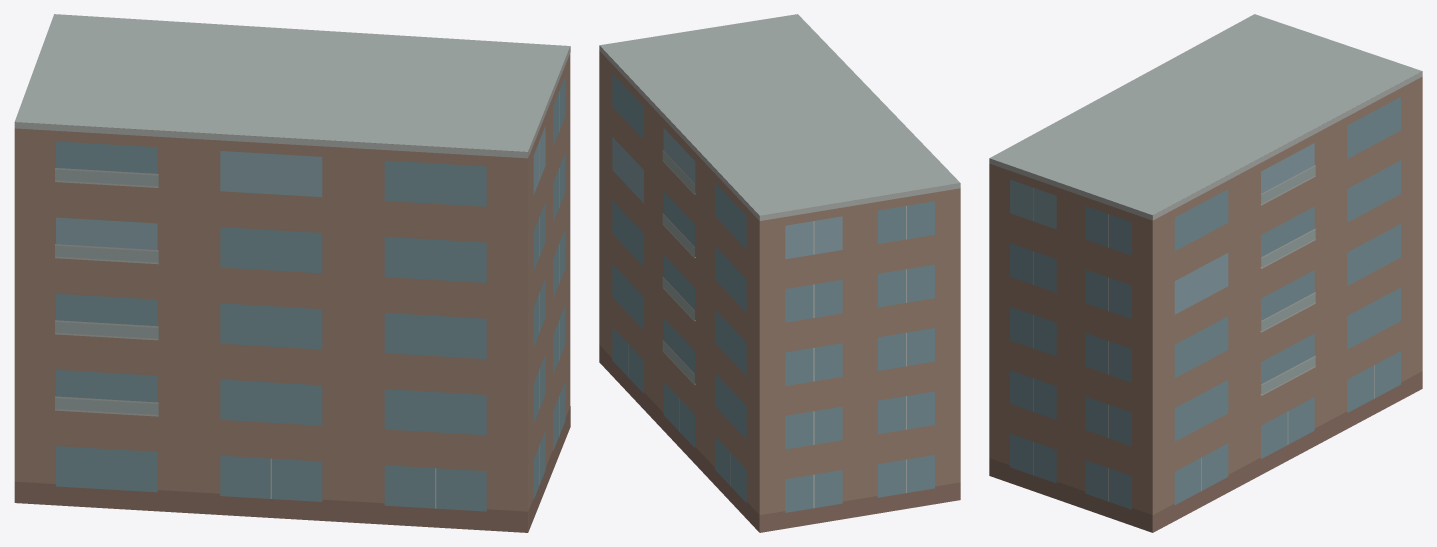
The model's file is survey-upis-32758344.glb.
3 renders of one model, left to right at view 1: azimuth 30°, elevation 25°; view 2: azimuth 150°, elevation 25°; view 3: azimuth 270°, elevation 25°, orthographic. The views are drawn at different scales.
Parts seen in each view (by area): view 1: survey-upis-32758344.tmp; view 2: survey-upis-32758344.tmp; view 3: survey-upis-32758344.tmp.
Part boxes in pixels (bbox=[...]): survey-upis-32758344.tmp: bbox=[14, 14, 570, 532]; survey-upis-32758344.tmp: bbox=[599, 14, 960, 532]; survey-upis-32758344.tmp: bbox=[989, 14, 1422, 532].
Size of the model in its own units: 19.72 by 14.5 by 17.94.
